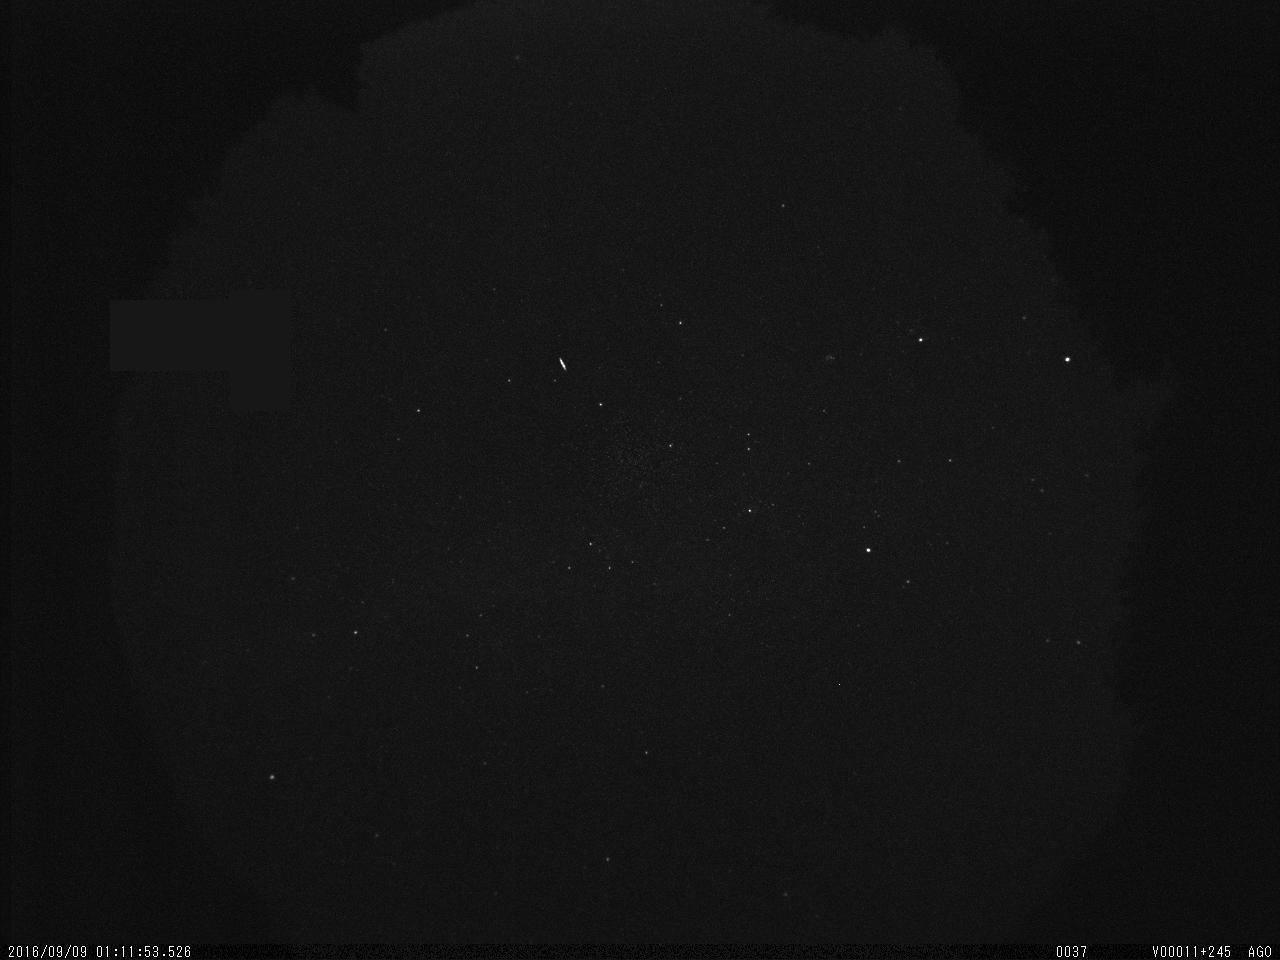Meteor: (555, 354, 568, 373)
